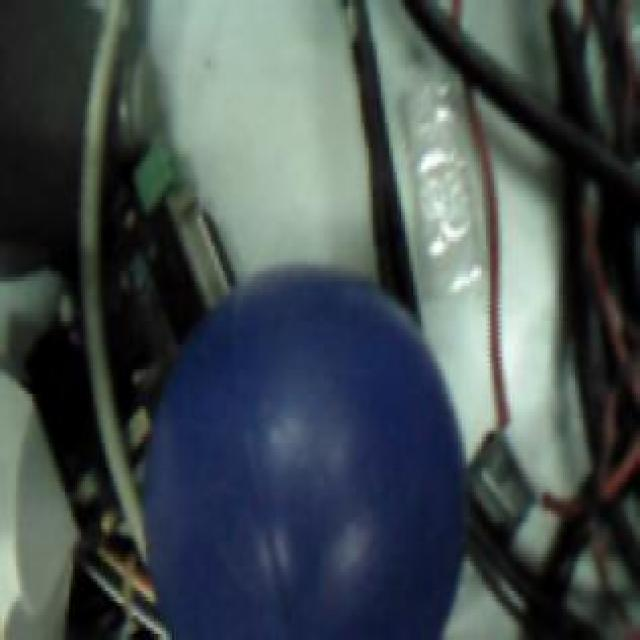BallPurple: (145, 271, 465, 640)
